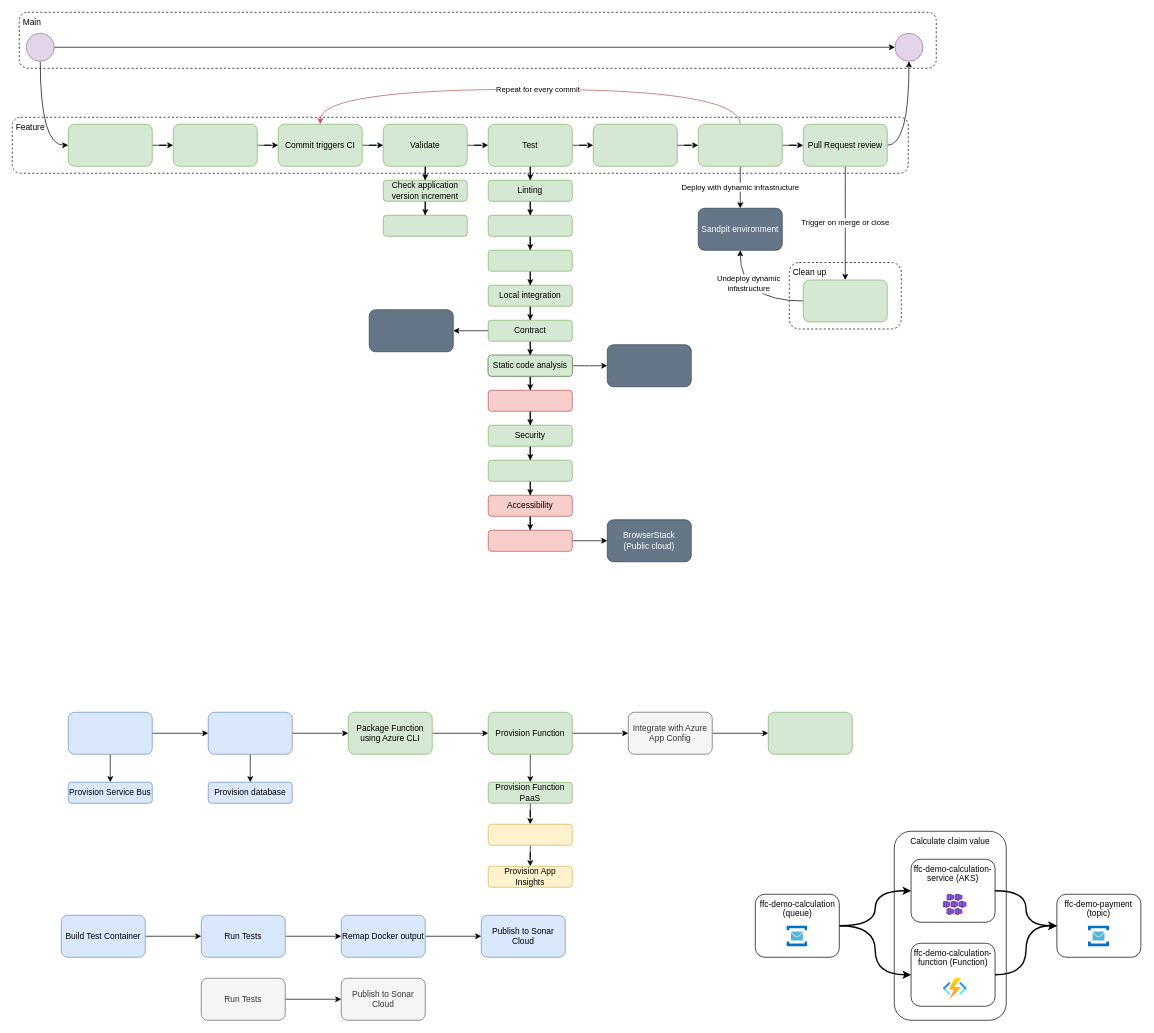
This 1154x1033 diagram has some shape labels left out. Here are the shapes that lost their labels. From the top down, the centre of each, then its label:
At pixel 110 145: "Create feature branch".
At pixel 215 145: "Create draft Pull Request".
At pixel 635 145: "Build assets".
At pixel 740 145: "PR deployment".
At pixel 425 225: "vulnerability scanning".
At pixel 530 225: "Unit".
At pixel 530 260: "Narrow integration".
At pixel 845 300: "PR tear down".
At pixel 411 330: "Pact Broker (Shared environment)".
At pixel 649 365: "SonarCloud (Public cloud)".
At pixel 530 400: "Acceptance".
At pixel 530 470: "Performance".
At pixel 530 540: "Compatibility".
At pixel 110 733: "Read Azure manifest file".
At pixel 250 733: "Check for Liquibase migrations".
At pixel 810 733: "Deploy Function".
At pixel 530 834: "Provision Storage".
